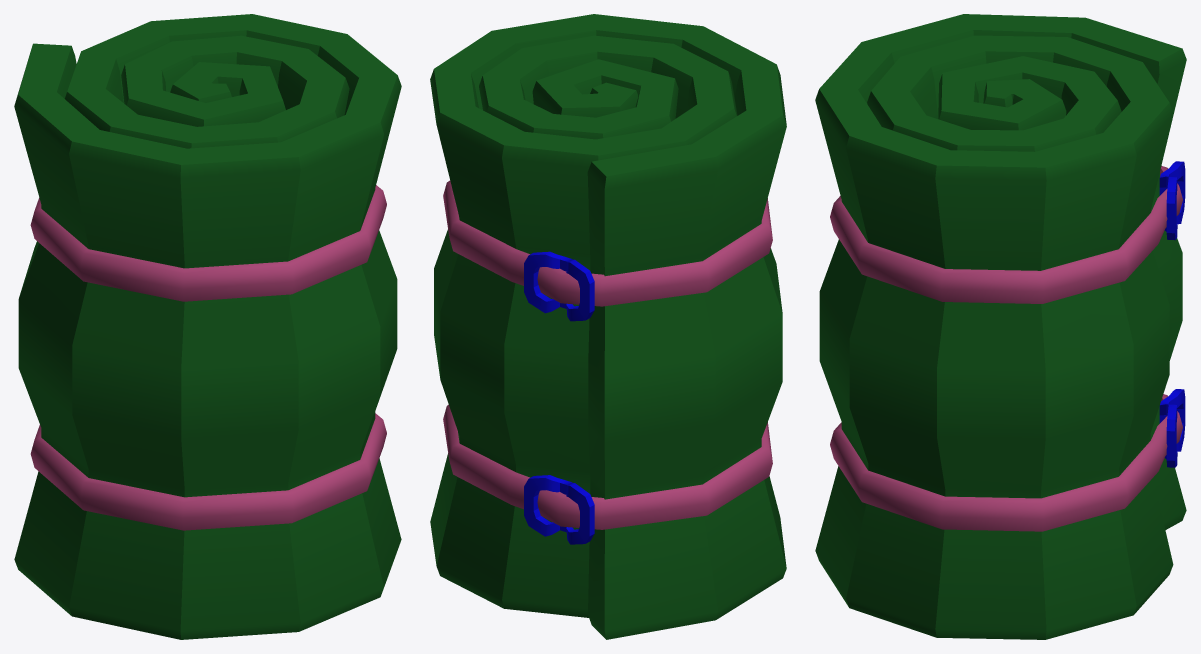
The model's file is Karemat.FBX.
3 views of the same model, side by side, from view 1: azimuth 30°, elevation 25°; view 2: azimuth 150°, elevation 25°; view 3: azimuth 270°, elevation 25° (orthographic). The views are drawn at different scales.
Parts seen in each view (by area): view 1: Karemat; view 2: Karemat; view 3: Karemat.
Boxes of the visible parts, x1,y1,x2,y2 form: Karemat: [14, 14, 401, 639]; Karemat: [430, 14, 786, 639]; Karemat: [815, 14, 1186, 639].
Size of the model in its own units: 736 by 736 by 1033.
